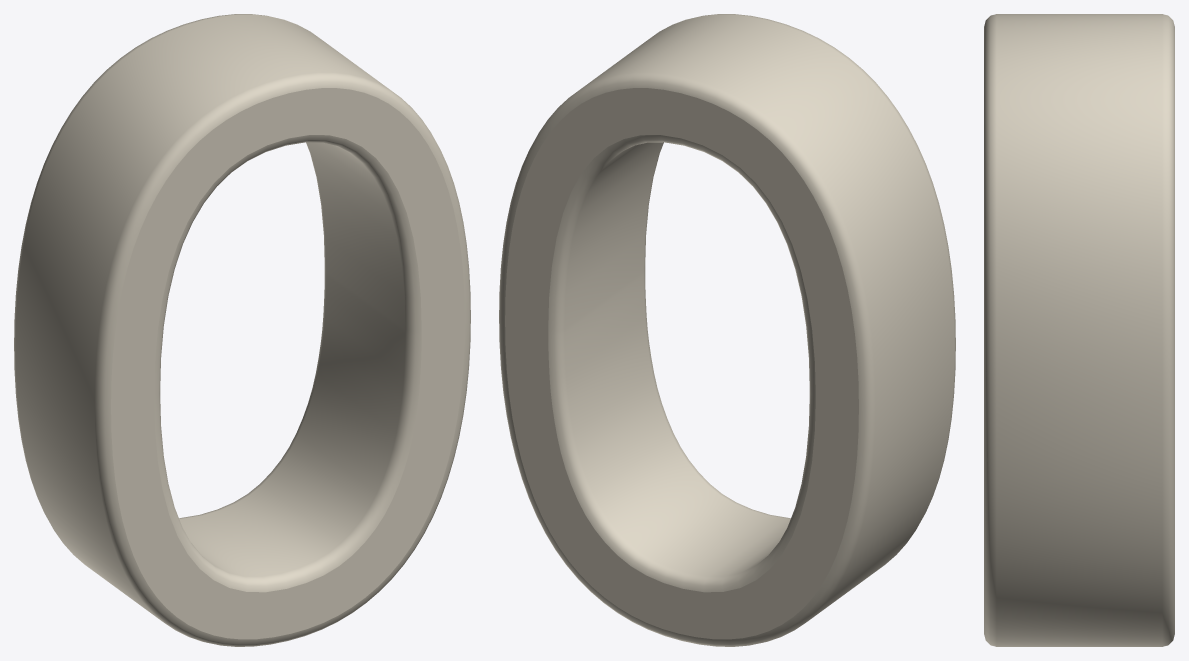
The model's file is number_0.glb.
The picture shows the model from 3 angles, left to right: view 1: azimuth 30°, elevation 25°; view 2: azimuth 150°, elevation 25°; view 3: azimuth 270°, elevation 25°; orthographic projection. The views are drawn at different scales.
Parts seen in each view (by area): view 1: color_body; view 2: color_body; view 3: color_body.
Part boxes in pixels (box(x1,y1,x2,y2)): color_body: box(14, 14, 470, 646); color_body: box(499, 14, 955, 646); color_body: box(984, 14, 1174, 646).
Bounding box in the file's own units: 0.5756 × 0.8261 × 0.242.
